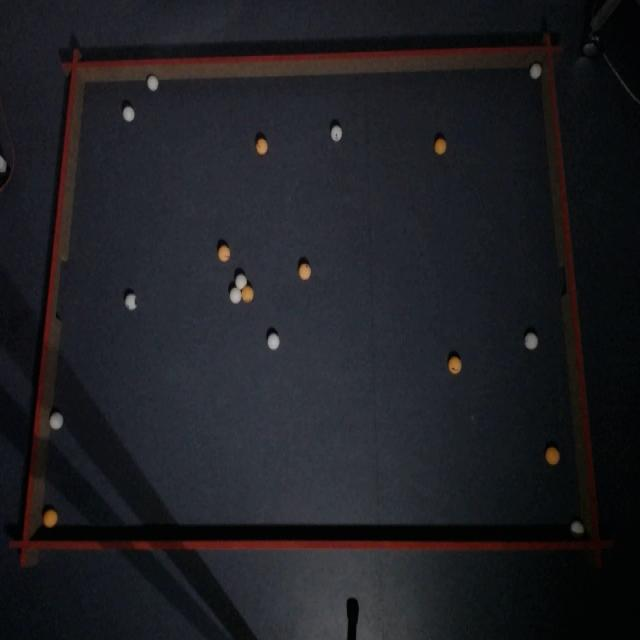orange_ball: (545, 446, 560, 466), (447, 358, 462, 376), (218, 244, 230, 262), (242, 284, 254, 302), (298, 263, 310, 279), (256, 137, 266, 153), (436, 141, 446, 154)
white_ball: (42, 508, 58, 529), (50, 411, 64, 431), (524, 333, 538, 350), (570, 520, 584, 536), (146, 74, 158, 91), (530, 62, 542, 79), (235, 272, 247, 289), (268, 333, 280, 350), (230, 285, 240, 303), (123, 106, 134, 122), (331, 125, 342, 141), (125, 295, 135, 308)
